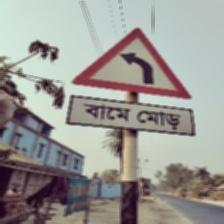Left-Turn: (69, 27, 195, 137)
